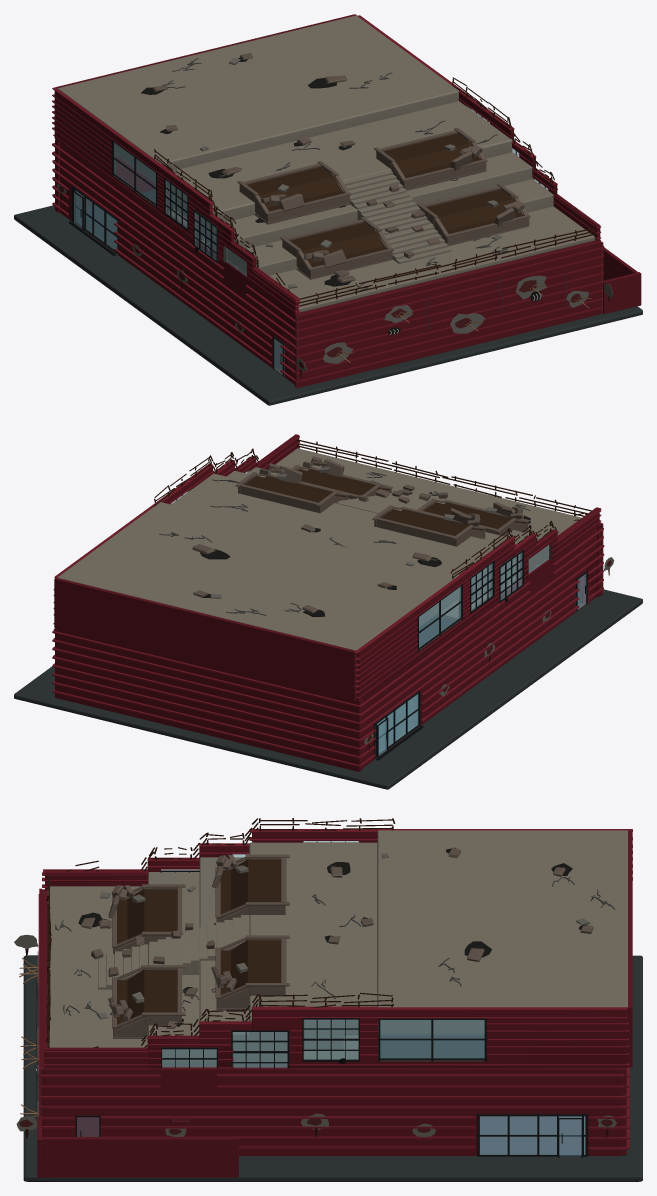
Rendered from 阶梯建筑(3).fbx.
The picture shows the model from 3 angles, top to bottom: view 1: azimuth 30°, elevation 25°; view 2: azimuth 150°, elevation 25°; view 3: azimuth 270°, elevation 25°; orthographic projection. The views are drawn at different scales.
Visible parts, largest first — view 1: 二级露天平台.003, 一层长方体主体, 主体基座, 二级露天平台.002, 阶梯外墙-四级-左侧, 一级露天平台, 二级露天平台.001, 阶梯外墙-四级-右侧.002, 二级露天平台, 屋顶花池-右侧-土面.004, 屋顶花池-右侧-土面.001, 屋顶花池-右侧-后壁.001 (+39 smaller); view 2: 二级露天平台.003, 一层长方体主体.001, 主体基座, 阶梯外墙-四级-右侧.001, 阶梯外墙-四级-左侧, 二级露天平台.002, 一级露天平台, 阶梯外墙-四级-右侧.002, 屋顶花池-右侧-后壁.001, 屋顶花池-右侧-后壁, X负立面镜像-X立面入口门厅-正面玻璃.002, 屋顶花池-右侧-土面.002 (+34 smaller); view 3: 二级露天平台.003, 一层长方体主体.002, 主体基座, 二级露天平台.002, 阶梯外墙-四级-右侧, 一级露天平台, 阶梯外墙-三级-右侧.002, 二级露天平台, X立面入口门厅-正面玻璃.002, 二级露天平台.001, X立面入口门厅-正面玻璃.001, X立面入口门厅-正面玻璃 (+37 smaller).
Part boxes in pixels (x1,y1,x2,y2): 二级露天平台.003: (57,15,458,170); 一层长方体主体: (294,240,601,387); 主体基座: (14,189,642,405); 二级露天平台.002: (116,101,512,221); 阶梯外墙-四级-左侧: (60,143,301,383); 一级露天平台: (169,206,595,312); 二级露天平台.001: (175,152,532,248); 阶梯外墙-四级-右侧.002: (54,91,212,240); 二级露天平台: (197,179,553,275); 屋顶花池-右侧-土面.004: (426,189,524,233); 屋顶花池-右侧-土面.001: (383,133,481,177); 屋顶花池-右侧-后壁.001: (237,161,351,224); 二级露天平台.003: (57,502,458,650); 一层长方体主体.001: (55,628,362,771); 主体基座: (14,589,642,789); 阶梯外墙-四级-右侧.001: (54,577,357,701); 阶梯外墙-四级-左侧: (362,508,599,767); 二级露天平台.002: (171,473,511,626); 一级露天平台: (275,448,581,620); 阶梯外墙-四级-右侧.002: (357,539,514,700); 屋顶花池-右侧-后壁.001: (372,505,486,546); 屋顶花池-右侧-后壁: (235,472,349,513); X负立面镜像-X立面入口门厅-正面玻璃.002: (419,586,460,647); 屋顶花池-右侧-土面.002: (381,509,481,535); 二级露天平台.003: (377,830,627,1020); 一层长方体主体.002: (43,1066,621,1155); 主体基座: (23,955,642,1181); 二级露天平台.002: (249,842,484,1035); 阶梯外墙-四级-右侧: (252,1010,627,1068); 一级露天平台: (47,886,358,1066); 阶梯外墙-三级-右侧.002: (42,1137,238,1177); 二级露天平台: (148,872,287,1064); X立面入口门厅-正面玻璃.002: (380,1020,484,1058); 二级露天平台.001: (199,857,343,1049); X立面入口门厅-正面玻璃.001: (480,1116,585,1154); X立面入口门厅-正面玻璃: (480,1116,584,1154).
Size of the model in its own units: 2979 by 1037 by 3545.
Materials: 46 (41 with a texture image).
